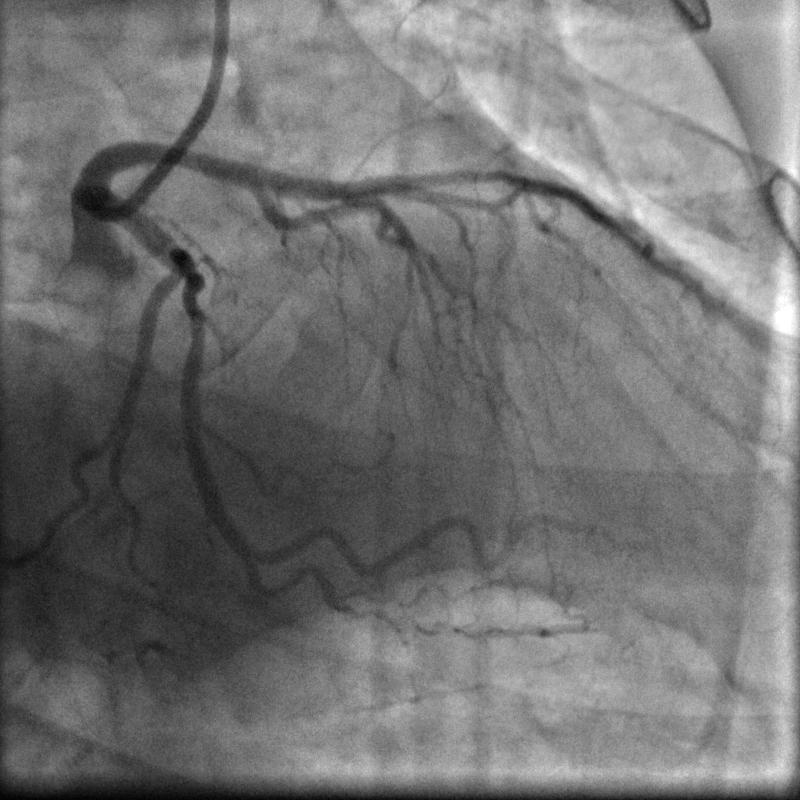Stenosis: (180, 269, 211, 334)
